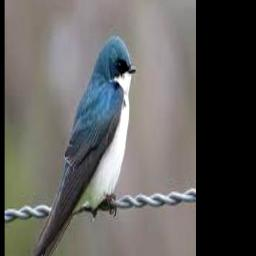Swallow: (25, 36, 138, 256)
